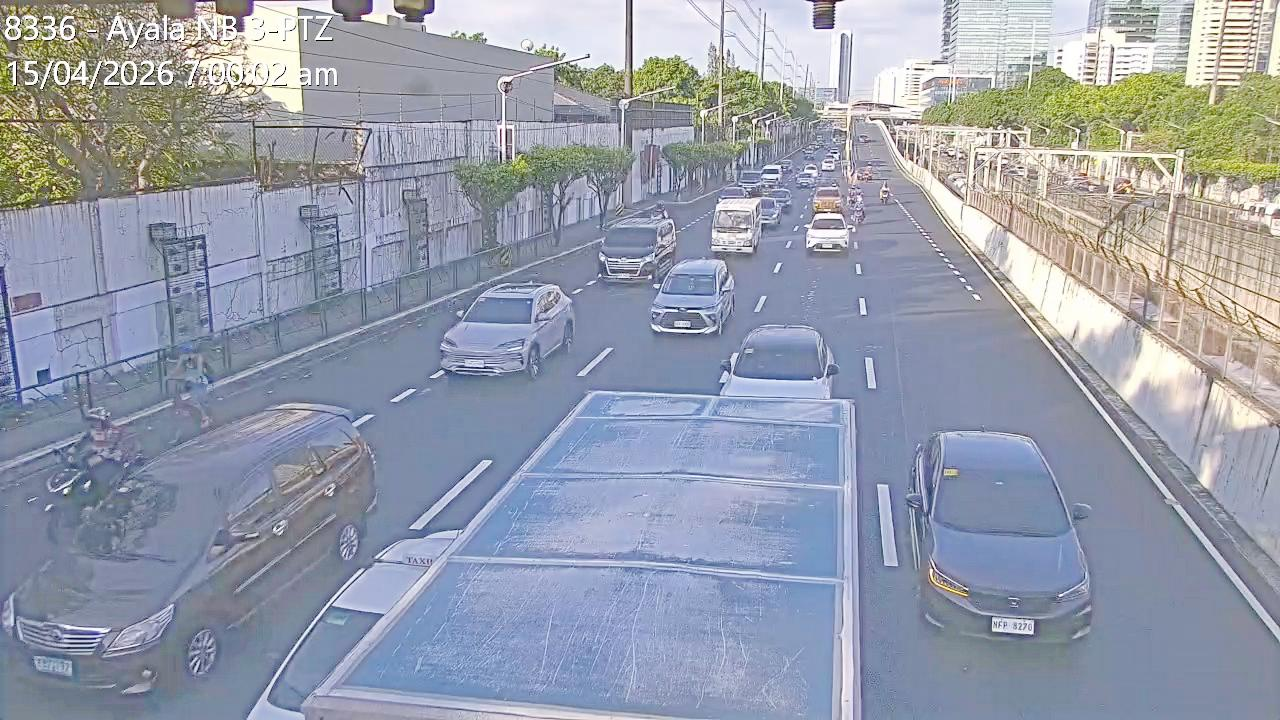Car: (4, 402, 376, 697), (233, 532, 465, 715), (904, 429, 1093, 640), (436, 280, 574, 380), (718, 321, 839, 401), (651, 255, 737, 333), (596, 210, 677, 283), (710, 195, 765, 252), (804, 212, 853, 254), (754, 195, 783, 228), (811, 184, 843, 213), (766, 186, 793, 213), (717, 185, 749, 205)
Motor: (44, 406, 151, 526), (163, 351, 221, 439)
Not Accident: (240, 523, 500, 720), (585, 198, 737, 342), (715, 186, 784, 257), (753, 180, 791, 228), (711, 180, 751, 211)
